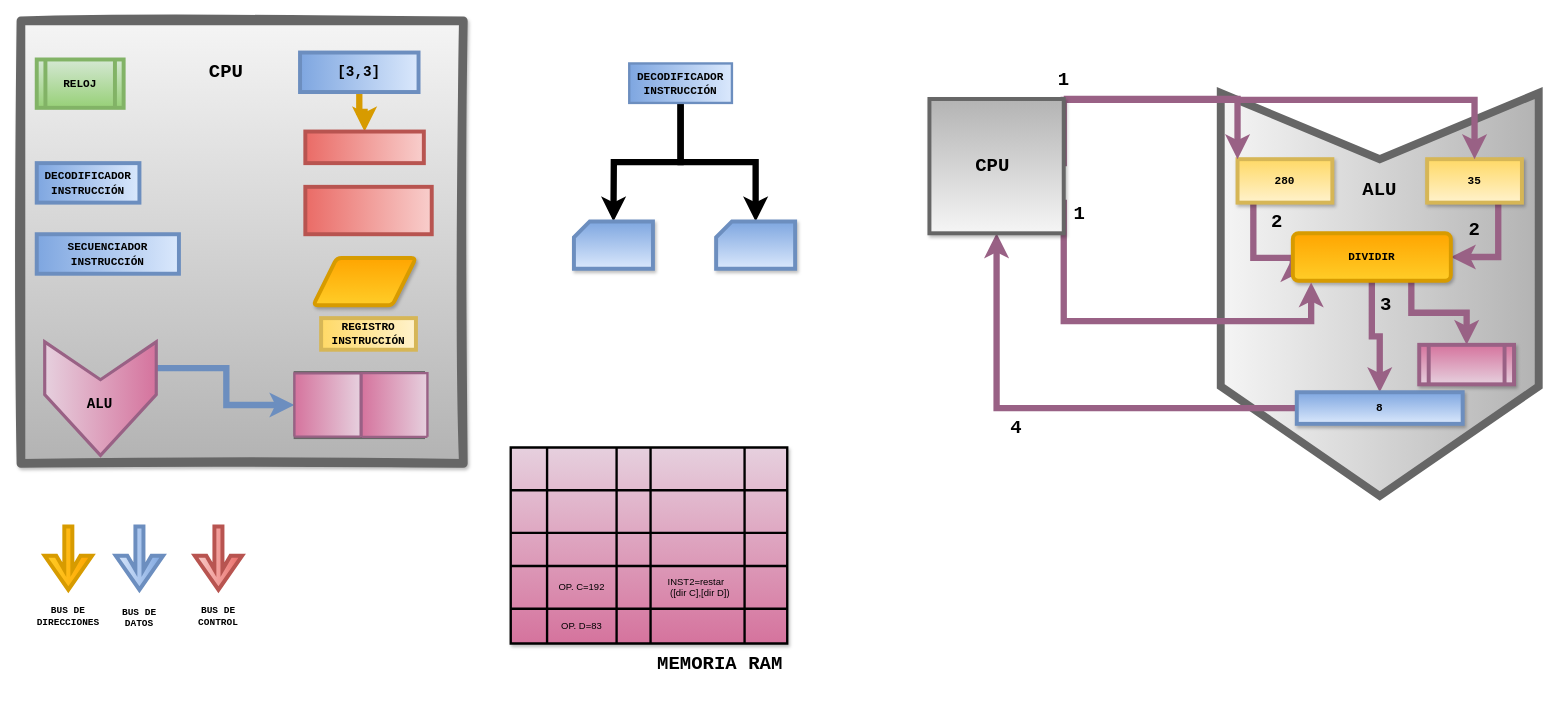
This 1556x702 diagram has some shape labels left out. Each missing label, with the centre of its shape:
MEMORY ACCESS DATA: the point at 364,147
MEMORY DATA REGISTER: the point at 368,210
OK: the point at 1467,365
OP2: the point at 394,404
RESULTADO: the point at 327,404
SELECTOR DE MEMORIA: the point at 365,282
